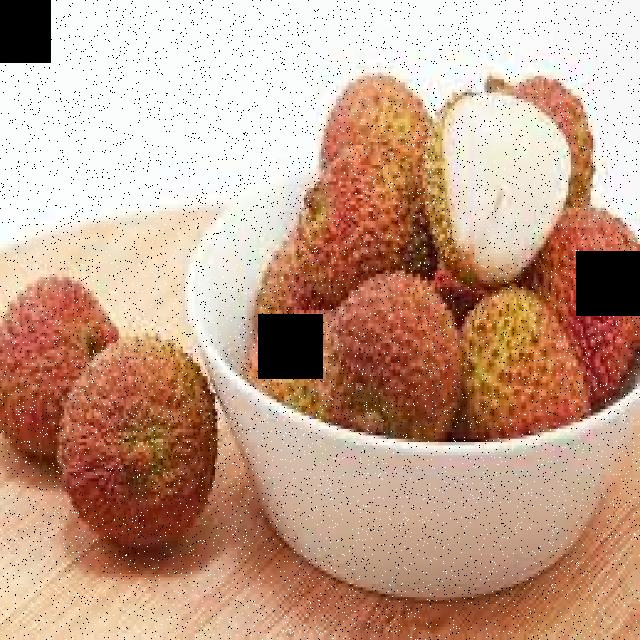lychee: (332, 69, 592, 408)
